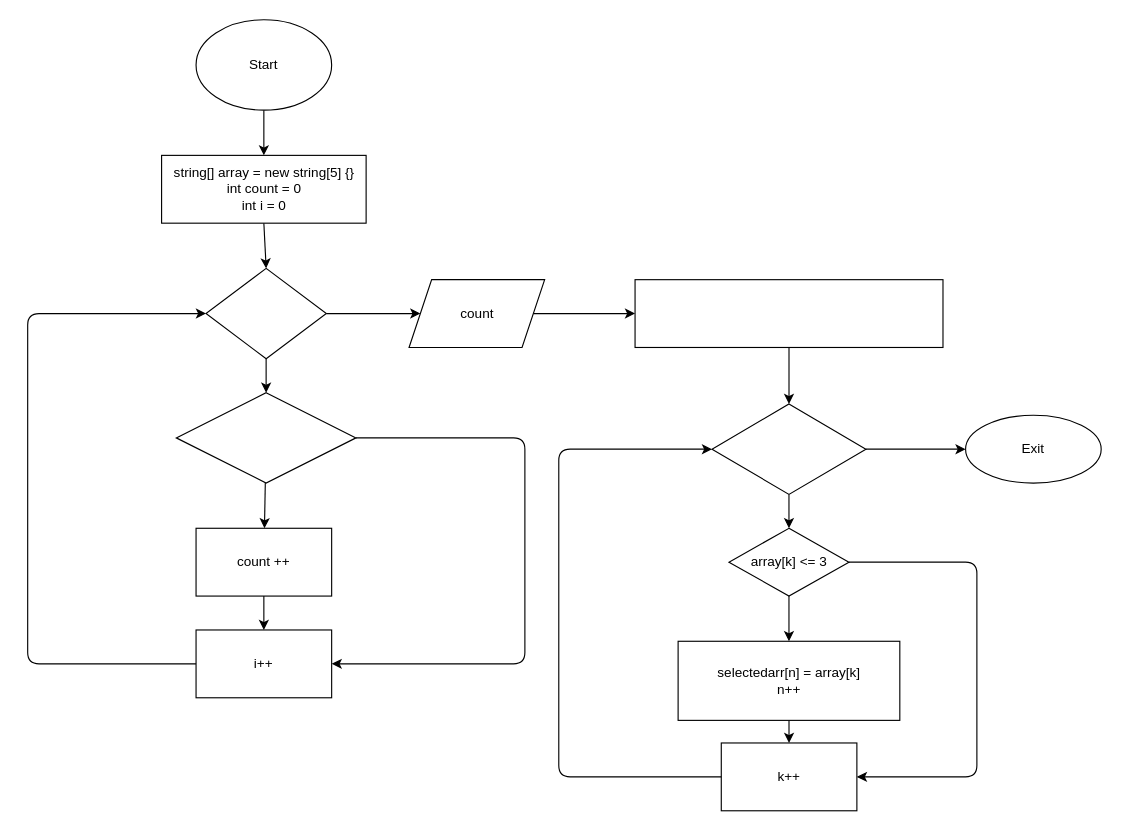
Image size: 1121x831. Some labels were removed from this diagram. The centre of each missing label's shape, as x and y in pixels:
array[i].Length <= 3: [265,437]
i < array.Length: [265,313]
k < array.Length: [788,448]
string[] selectedarr=new string[count] int n = 0 int k = 0: [788,313]
